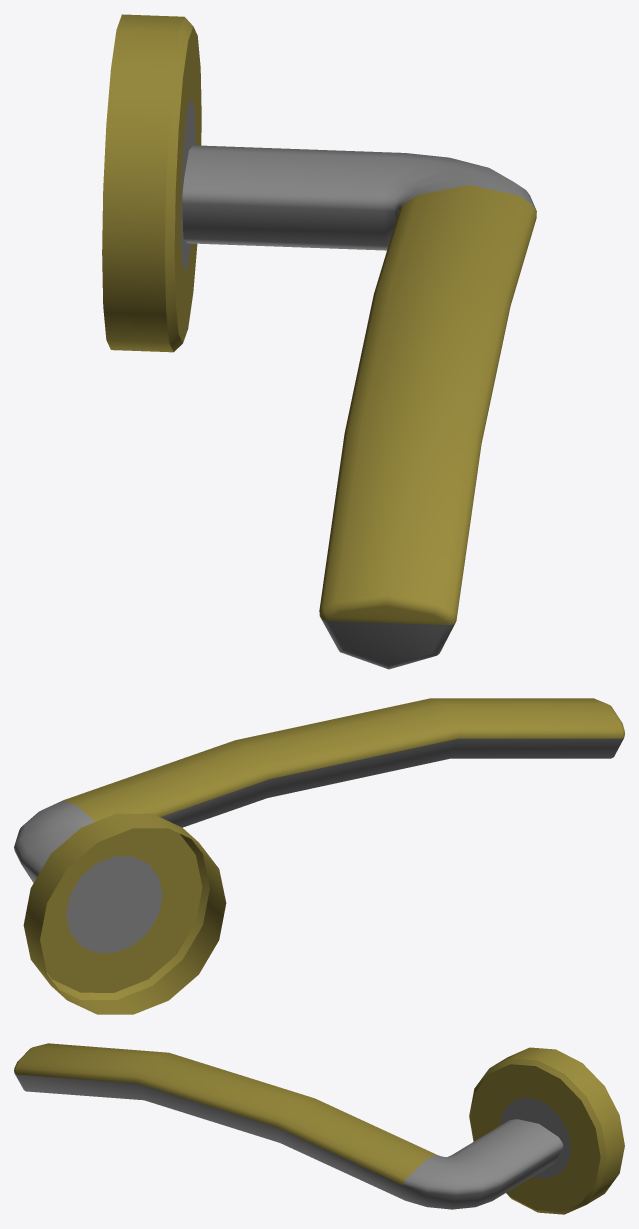
The picture shows the model from 3 angles, top to bottom: view 1: azimuth 30°, elevation 25°; view 2: azimuth 150°, elevation 25°; view 3: azimuth 270°, elevation 25°; orthographic projection. The views are drawn at different scales.
Parts seen in each view (by area): view 1: part7:handle (×2); view 2: part7:handle (×2); view 3: part7:handle (×2).
Part boxes in pixels (<box>): part7:handle (×2): <box>102,14,536,669</box>; part7:handle (×2): <box>14,698,624,1014</box>; part7:handle (×2): <box>14,1043,624,1214</box>.
Size of the model in its own units: 0.1125 by 0.056 by 0.2036.
